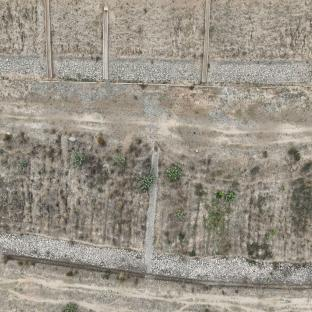rock_toe: (0, 233, 145, 272), (154, 254, 312, 283), (106, 58, 200, 83), (208, 61, 312, 83), (52, 56, 102, 78), (1, 55, 46, 75)
slope_drain: (145, 151, 160, 274), (201, 0, 210, 83), (45, 0, 53, 79), (103, 7, 108, 80)
toe_drain: (6, 250, 312, 290), (0, 75, 312, 88)
vegetation: (137, 169, 156, 194), (164, 166, 182, 184)
